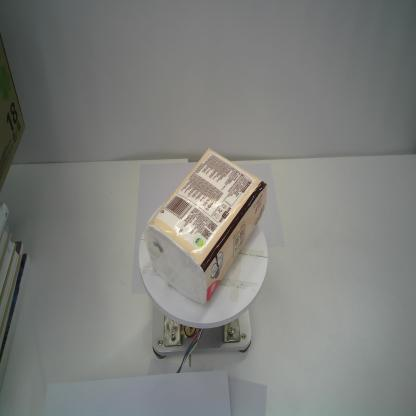Tissue: (147, 146, 266, 304)
